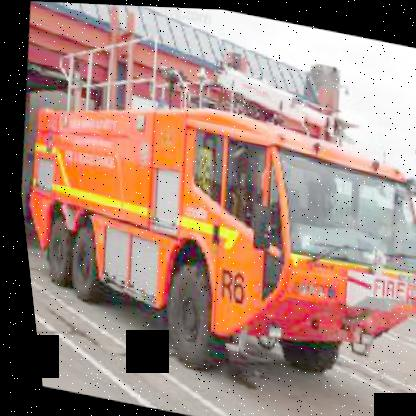emergency: (1, 18, 415, 406)
